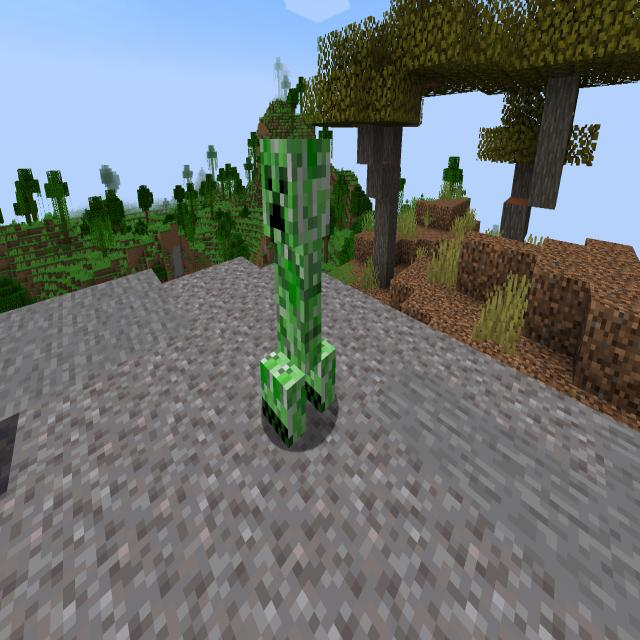Creeper: (250, 128, 348, 458)
